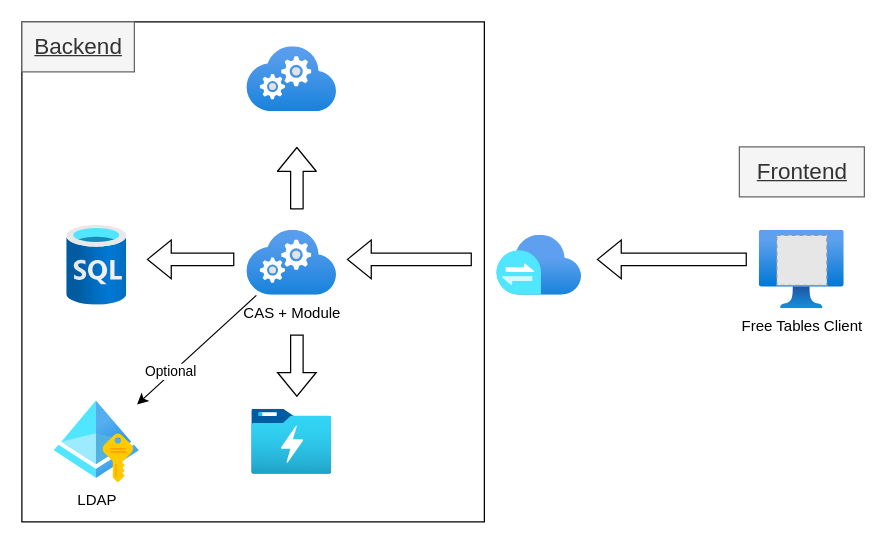
Image size: 886x554. Some labels were removed from this diagram. Grey dashed boxes stand in for pictures. The centre of each missing label's shape, as x and y in pixels:
"BIRT" goes at (291,78).
"Files" goes at (291,441).
"HTTPS" goes at (538,265).
